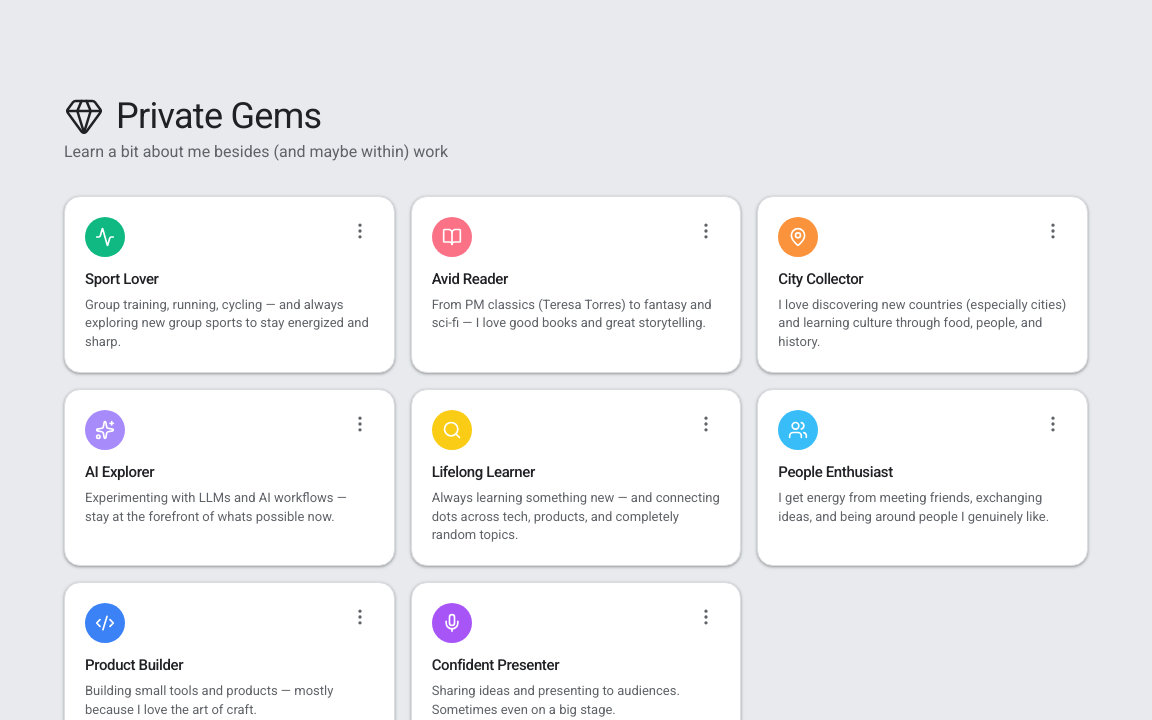
GemsSection › shows Favorite and Pin in overflow menu
The width and height of the screenshot is (1152, 720).
Click the 1st button named "More options" at (360, 231), box [346,217,374,245]
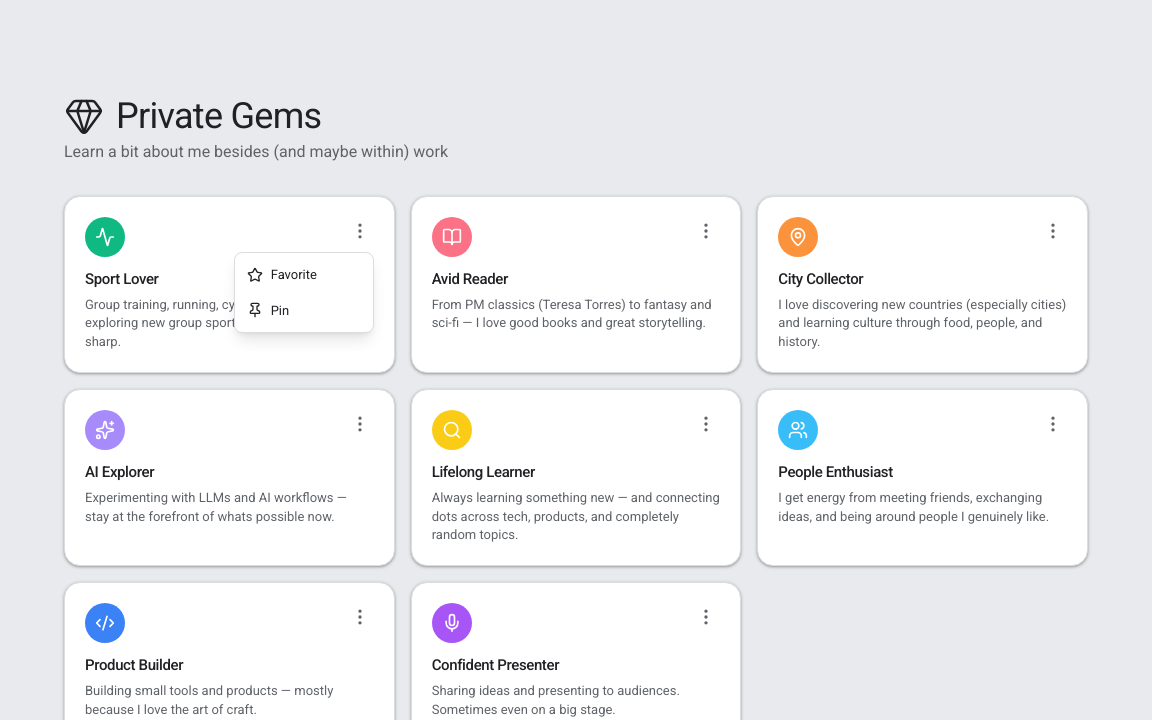
Check: the menu item "Favorite" is shown, box [247,267,317,283]
Check: the menu item "Pin" is shown, box [235,292,373,328]
